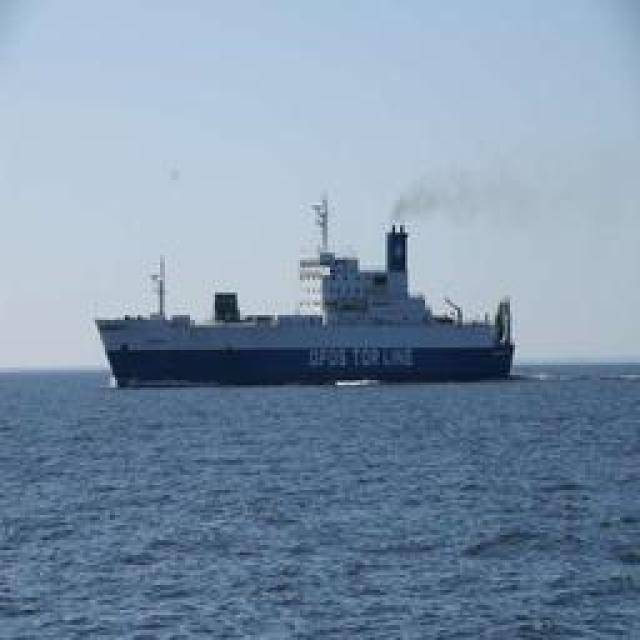ship2: (94, 201, 516, 389)
